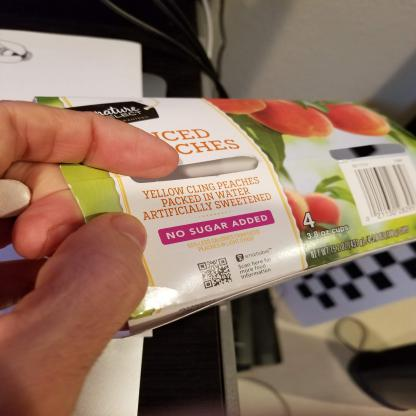barcode: (346, 160, 416, 221)
qr: (197, 255, 237, 292)
